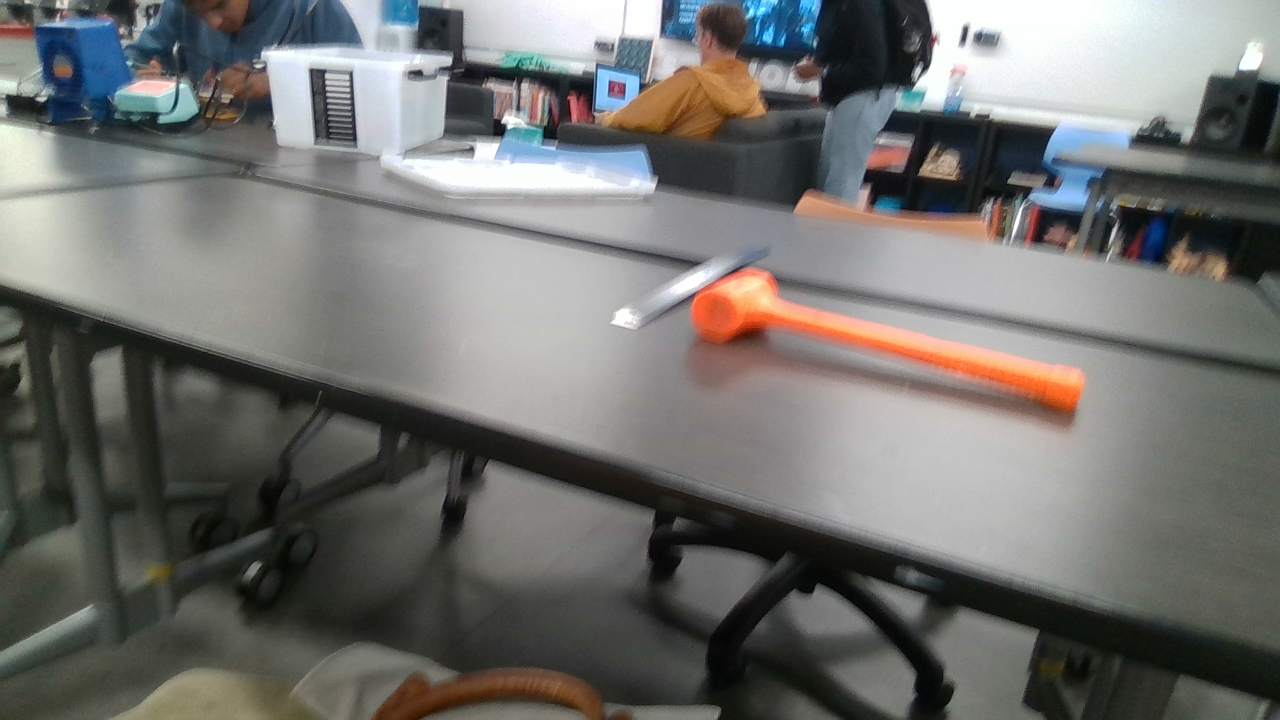Orange Hammer: (691, 268, 1082, 413)
